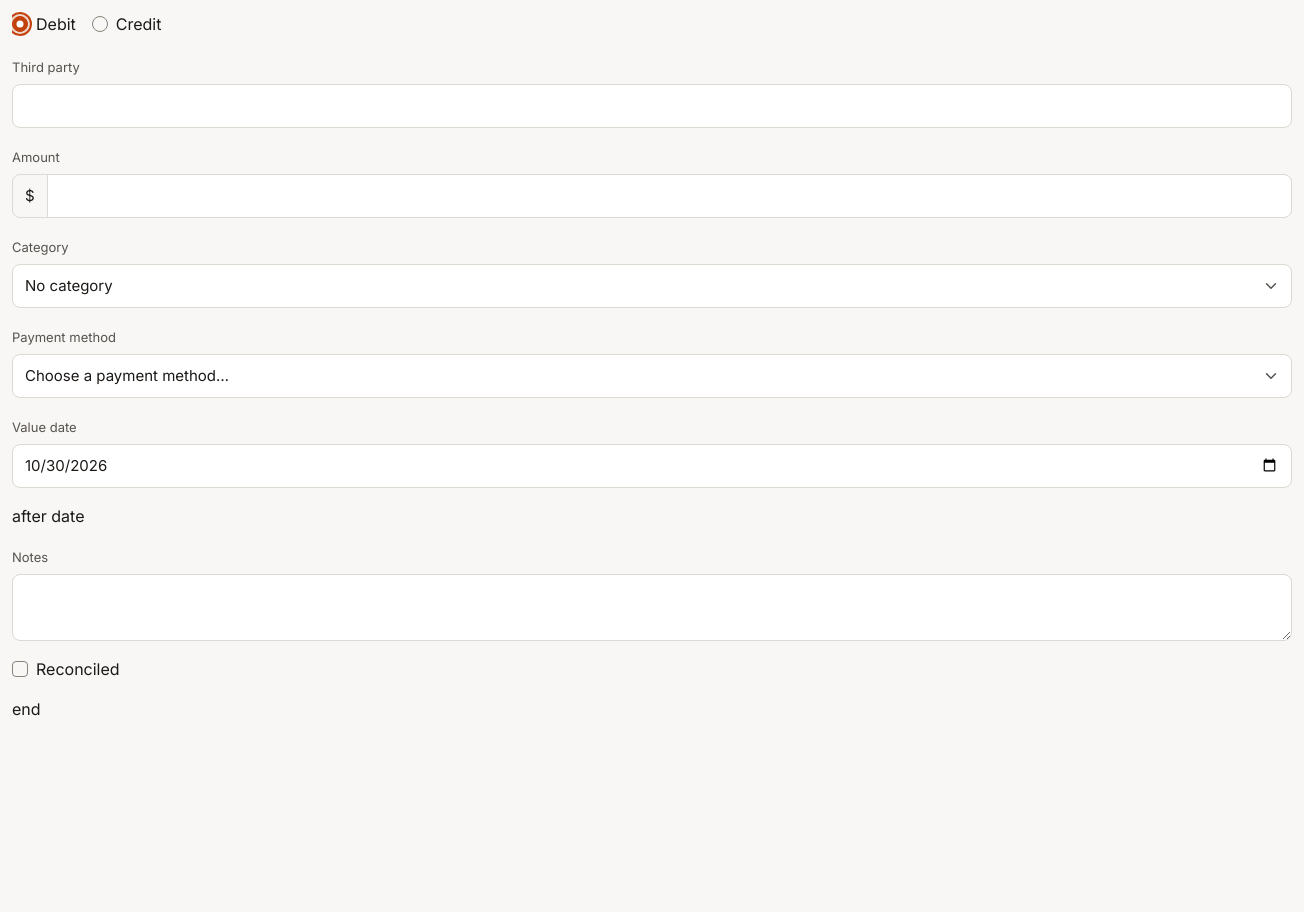
it: OperationFields › bounds the value date to the range the API accepts, and explains one outside it
Type "2101-01-01" into the date field with id "x-value-date" at (652, 466), box [12,444,1292,488]
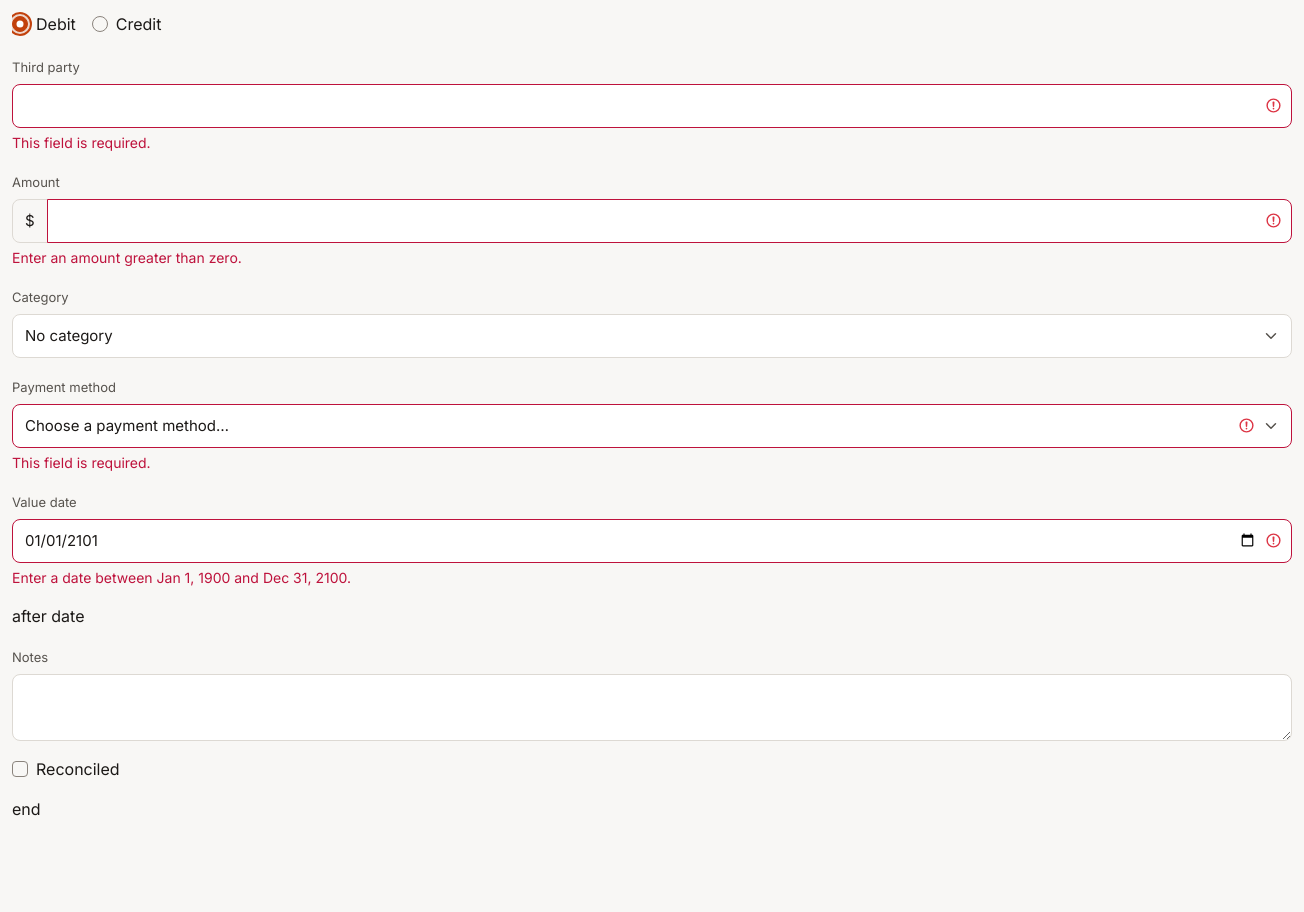
Result: the element with id "x-value-date" shows "Enter a date between Jan 1, 1900 and Dec 31, 2100." at [12,569,351,586]
